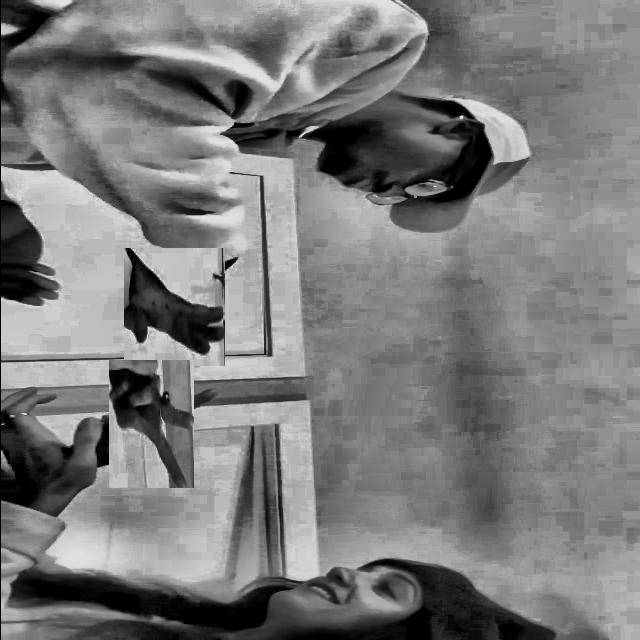not-gloved: (119, 252, 229, 362), (97, 370, 204, 477)
